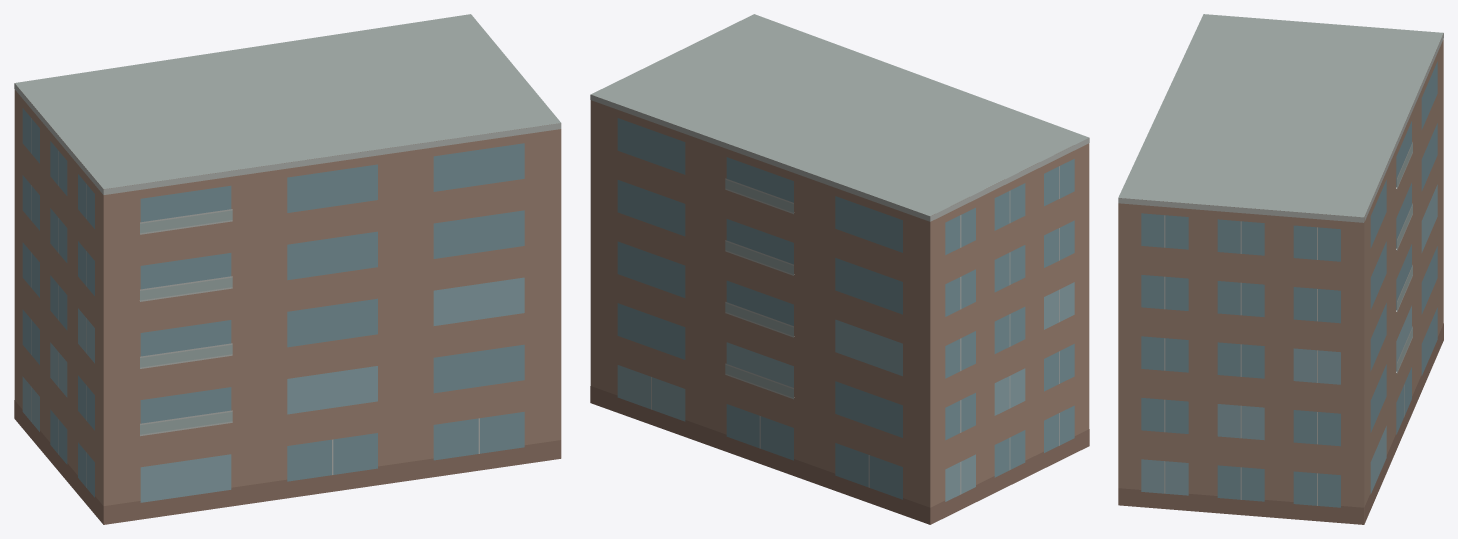
Rendered from survey-upis-32705764.glb.
3 renders of one model, left to right at view 1: azimuth 30°, elevation 25°; view 2: azimuth 150°, elevation 25°; view 3: azimuth 270°, elevation 25°, orthographic. The views are drawn at different scales.
Visible parts, largest first — view 1: survey-upis-32705764.tmp; view 2: survey-upis-32705764.tmp; view 3: survey-upis-32705764.tmp.
Part boxes in pixels (left/top/right/bottom): survey-upis-32705764.tmp: left=14, top=14, right=561, bottom=524; survey-upis-32705764.tmp: left=590, top=14, right=1089, bottom=524; survey-upis-32705764.tmp: left=1118, top=14, right=1443, bottom=524.
Bounding box in the file's own units: 19.45 × 13.7 × 13.16.
